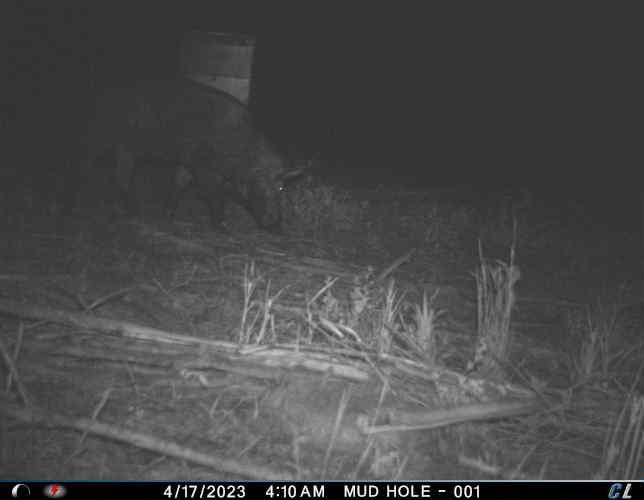Hog: (70, 74, 306, 235)
